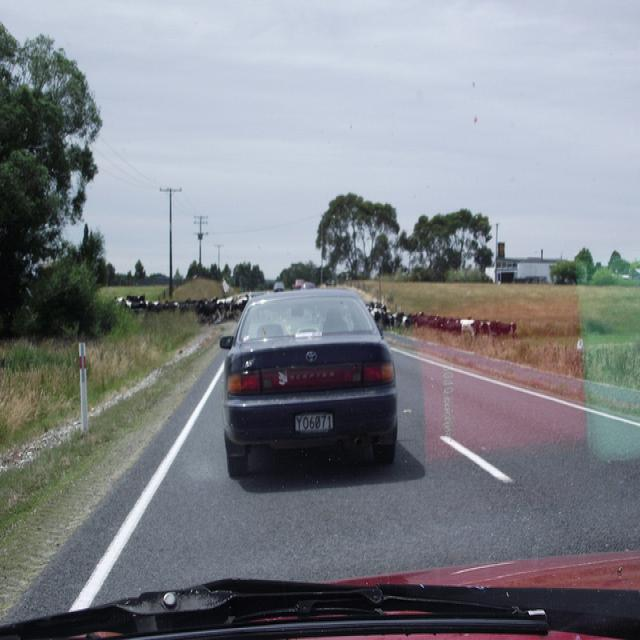cow: (112, 292, 382, 313), (488, 320, 515, 344), (417, 308, 446, 328), (453, 317, 474, 340), (195, 300, 218, 319), (226, 297, 248, 316), (369, 307, 382, 335), (378, 307, 393, 328), (445, 315, 462, 333), (407, 312, 423, 328), (474, 319, 488, 336), (395, 313, 408, 328), (147, 300, 163, 311), (164, 299, 178, 309)
